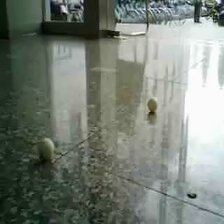w: (36, 137, 55, 159), (146, 96, 159, 113)
